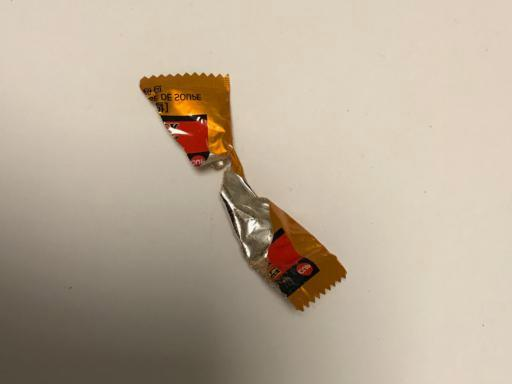trash: (138, 70, 348, 315)
